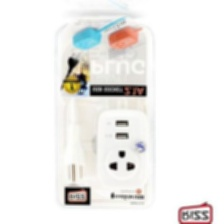book: (49, 11, 160, 212)
three_eye_plug: (92, 106, 152, 195)
